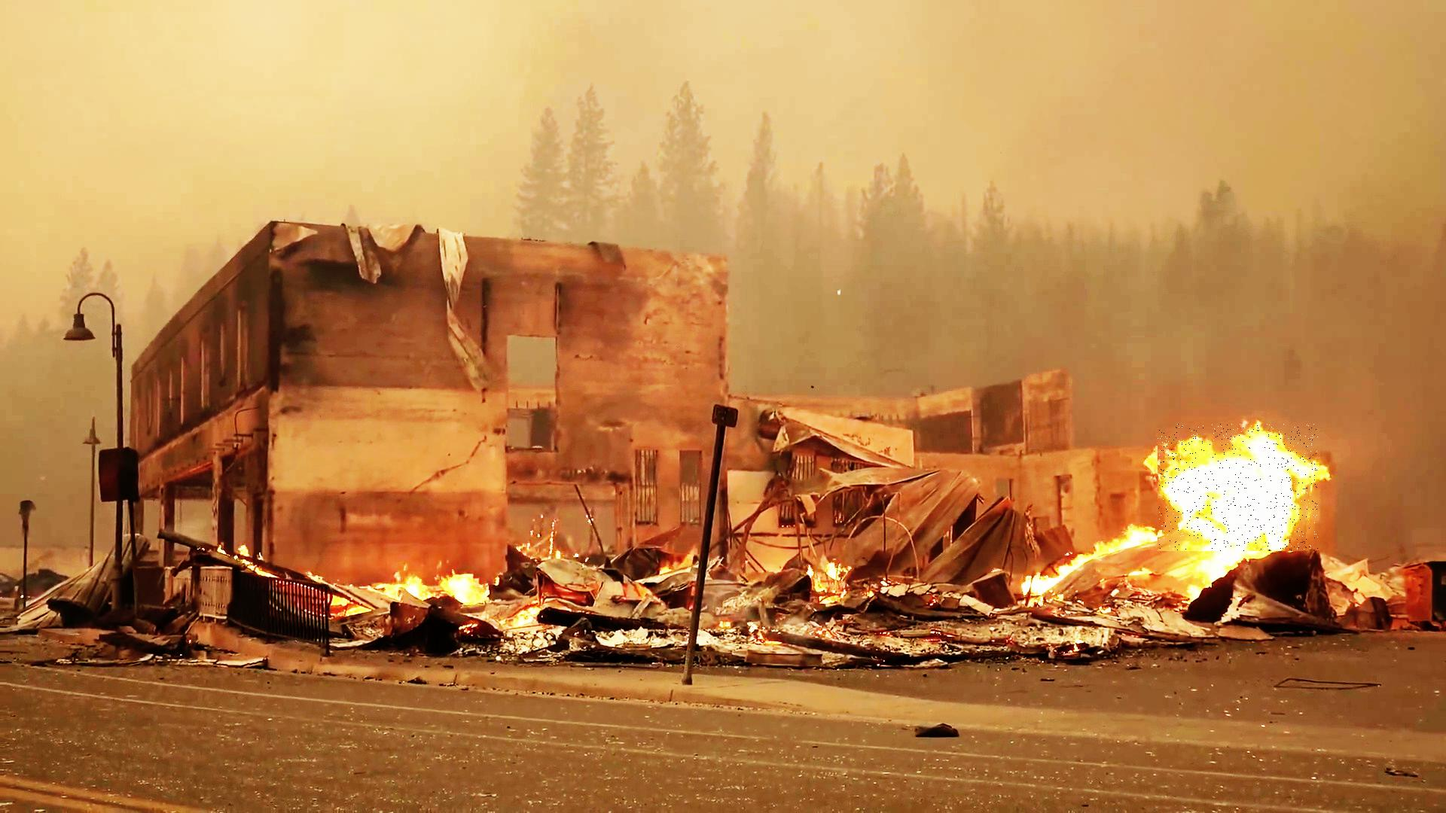fire: (1158, 424, 1319, 551)
